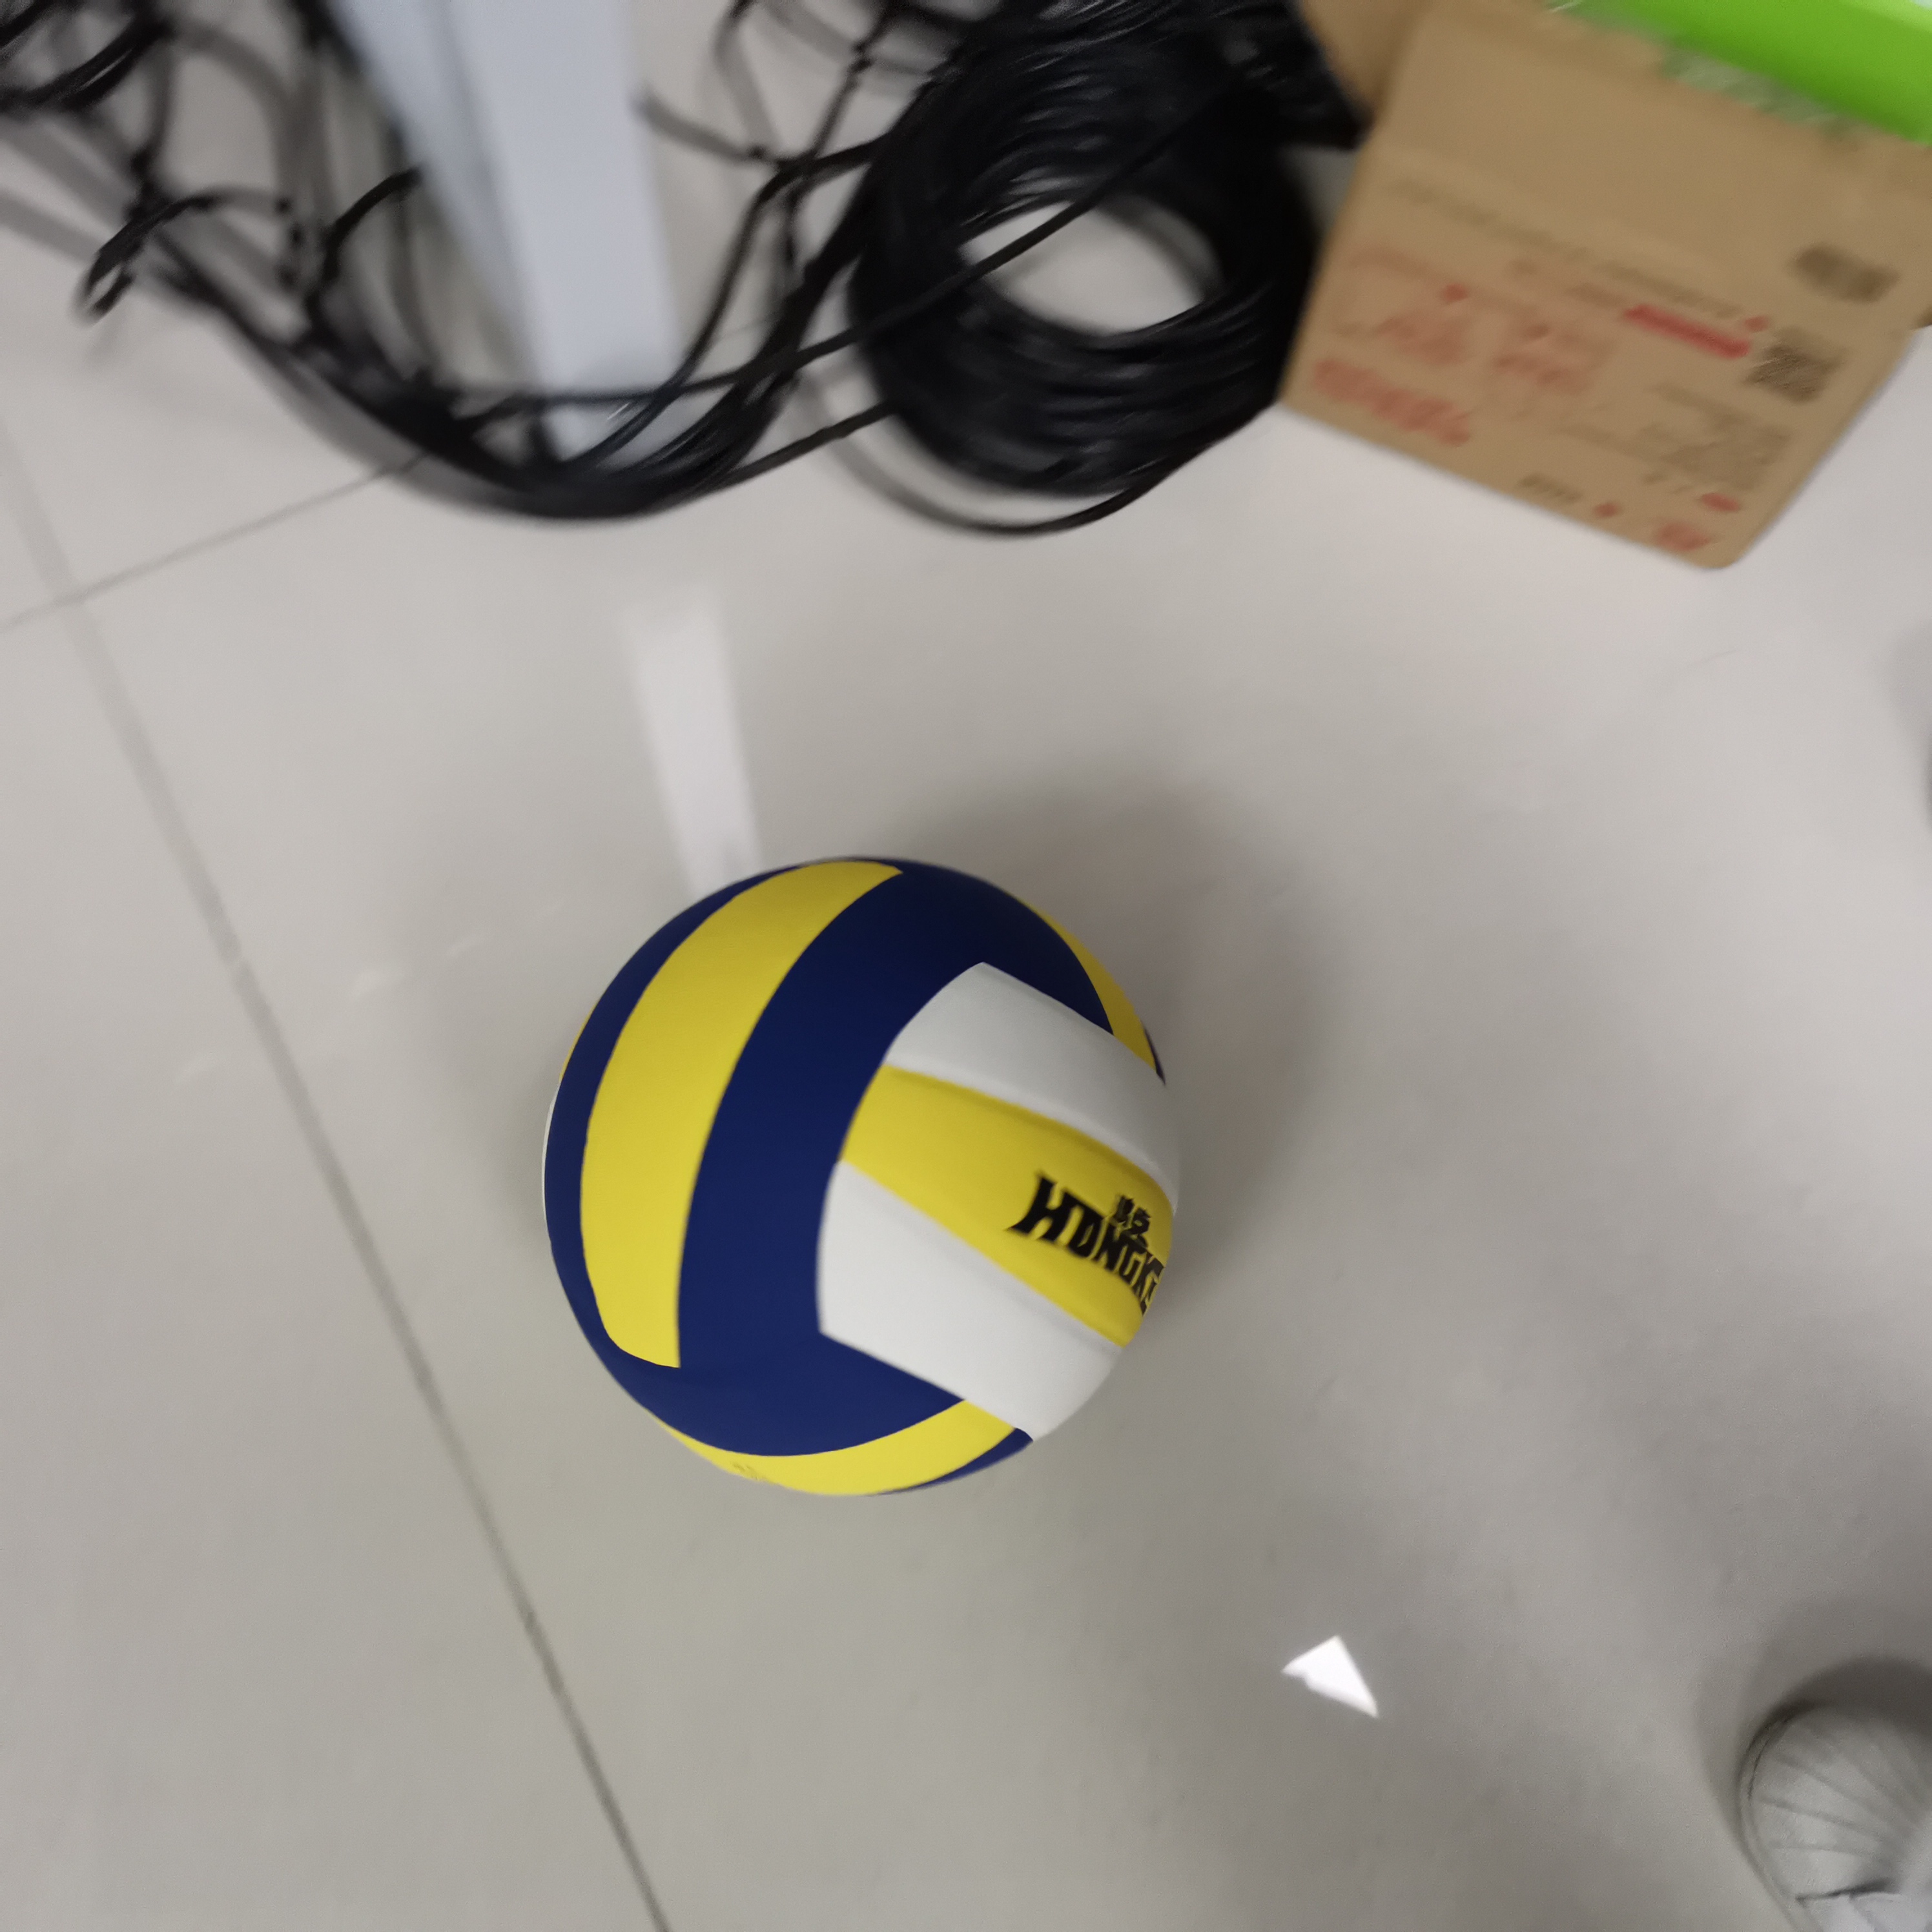volleyball: (536, 849, 1192, 1497)
